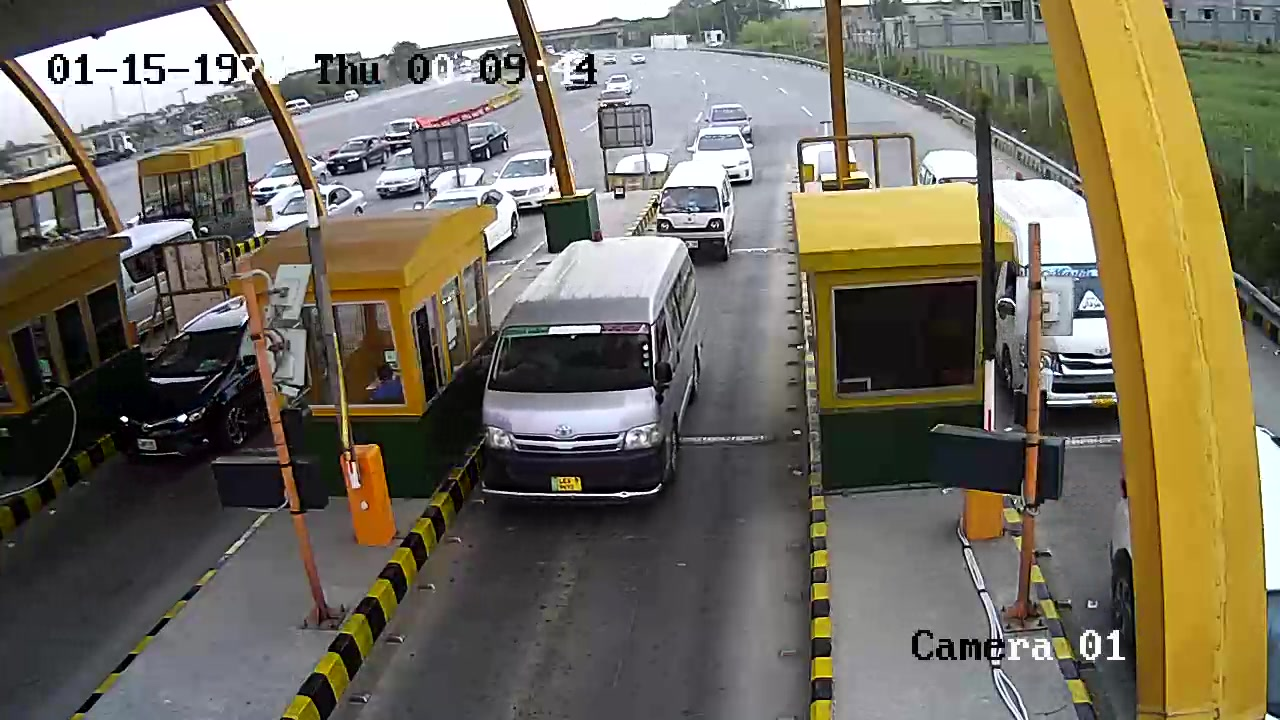F3: (465, 234, 715, 520)
